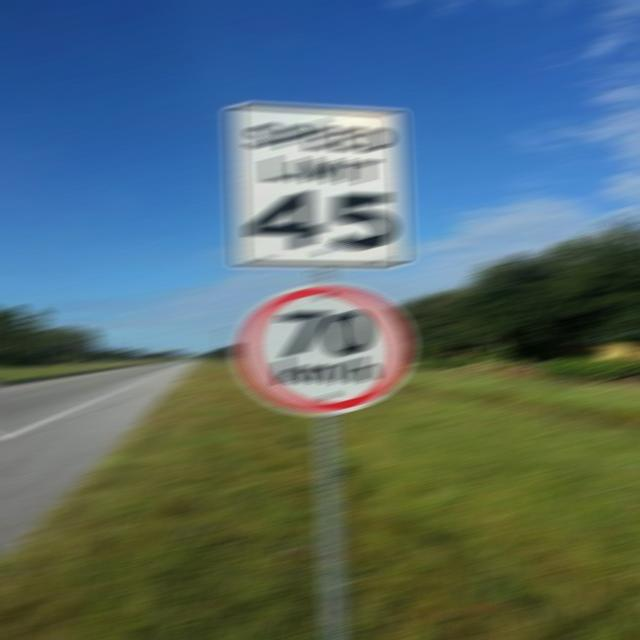speedLimit45: (222, 91, 407, 275)
